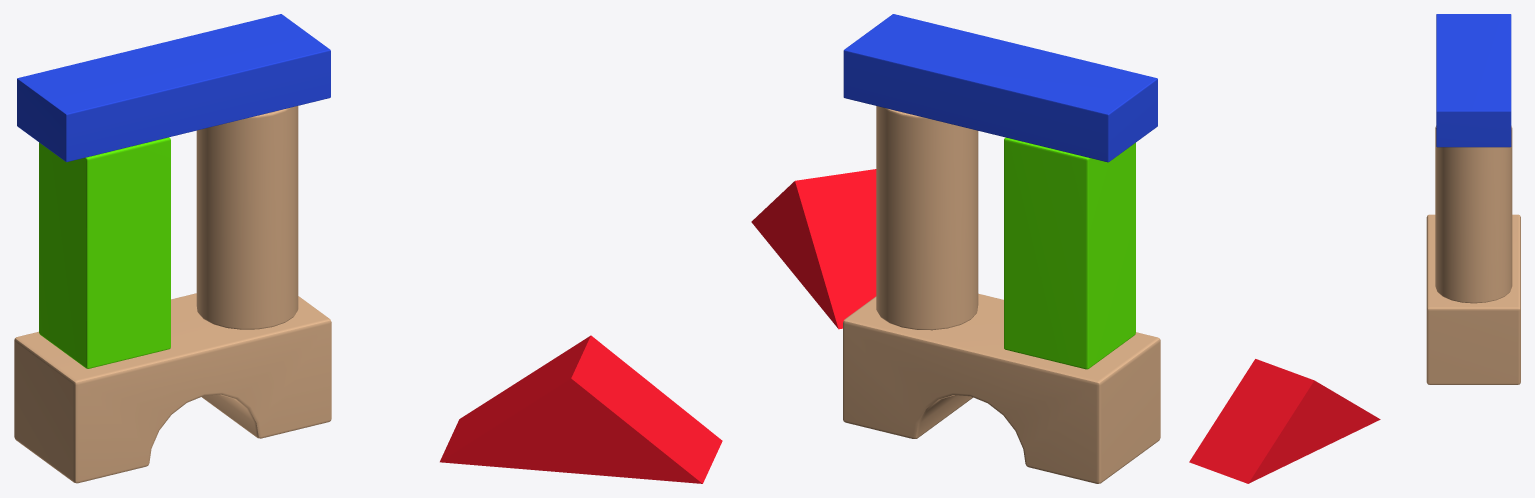
File: blook.fbx
The picture shows the model from 3 angles, left to right: view 1: azimuth 30°, elevation 25°; view 2: azimuth 150°, elevation 25°; view 3: azimuth 270°, elevation 25°; orthographic projection. The views are drawn at different scales.
Parts seen in each view (by area): view 1: polySurface2; view 2: polySurface2; view 3: polySurface2.
Part boxes in pixels (x1=…): polySurface2: x1=14, y1=14, x2=722, y2=483; polySurface2: x1=751, y1=14, x2=1160, y2=483; polySurface2: x1=1189, y1=14, x2=1520, y2=483.
Bounding box in the file's own units: 7.24 × 4.78 × 5.19.
Materials: 1 (1 with a texture image).
